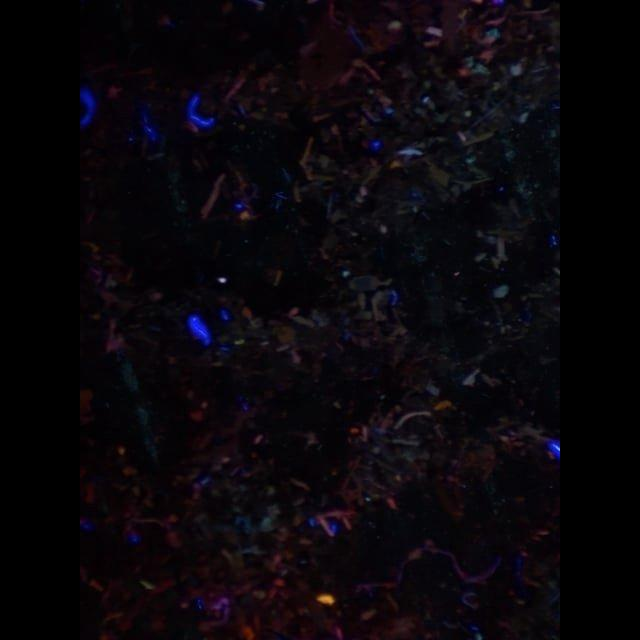Fibre: (491, 284, 509, 302)
